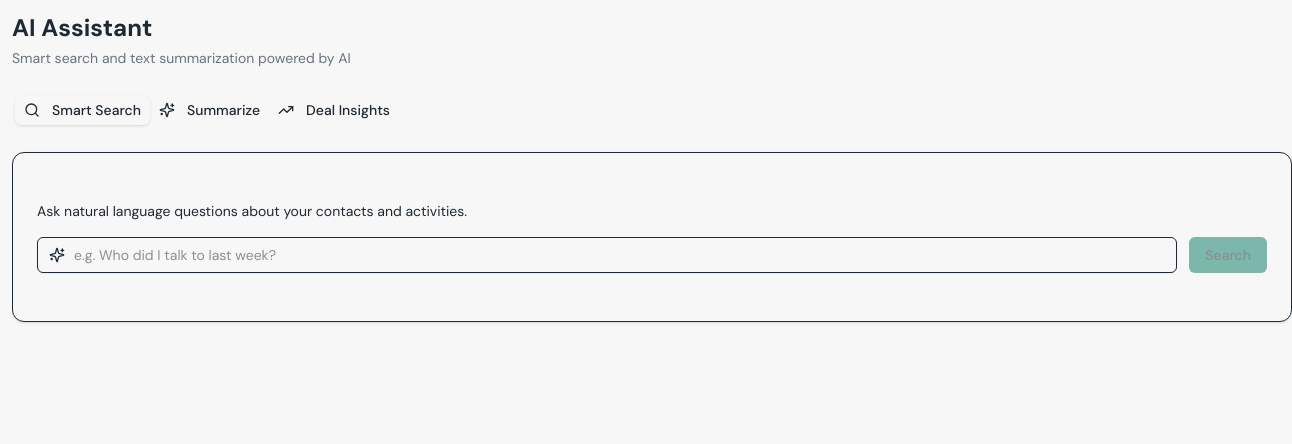
Test: AiPanelPage › shows the Results heading when streaming search
In the field with placeholder "e.g. Who did I talk to last week?": (607, 255) [37,237,1177,273], type "nothing"
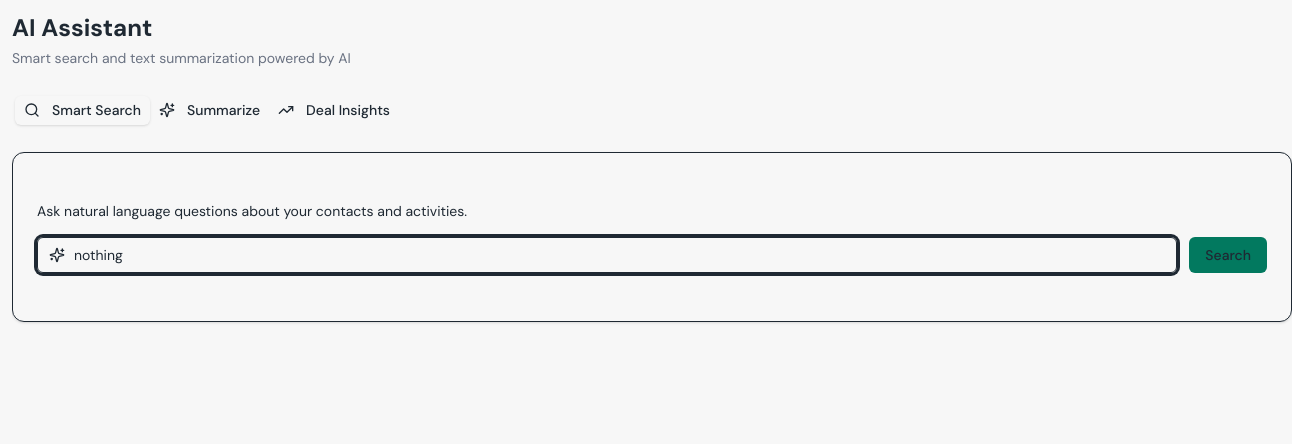
Click the button "Search": (1228, 255) [1189,237,1267,273]
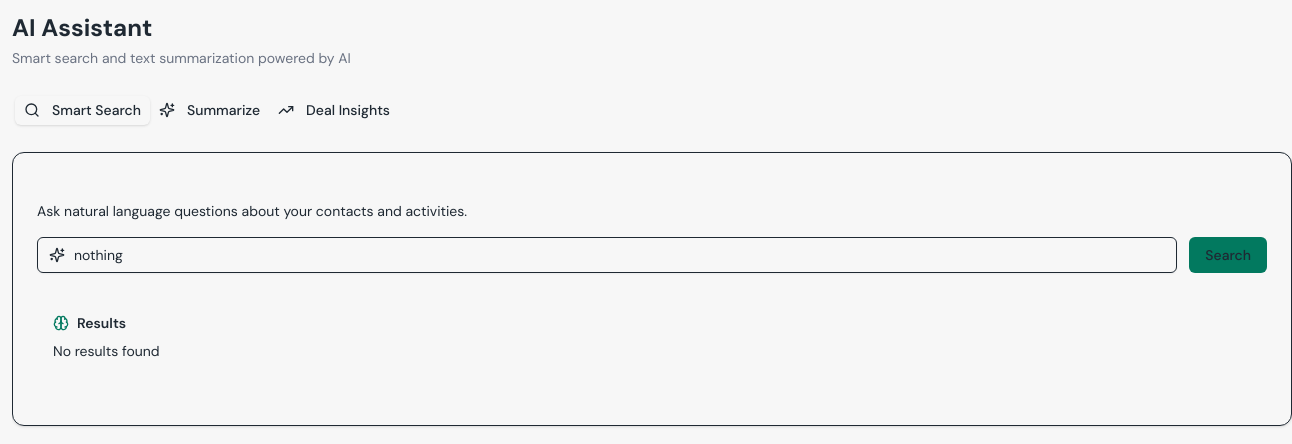
Now the text "No results found" is shown, box [53,342,160,360]
Now the heading "Results" is shown, box [77,313,126,333]
